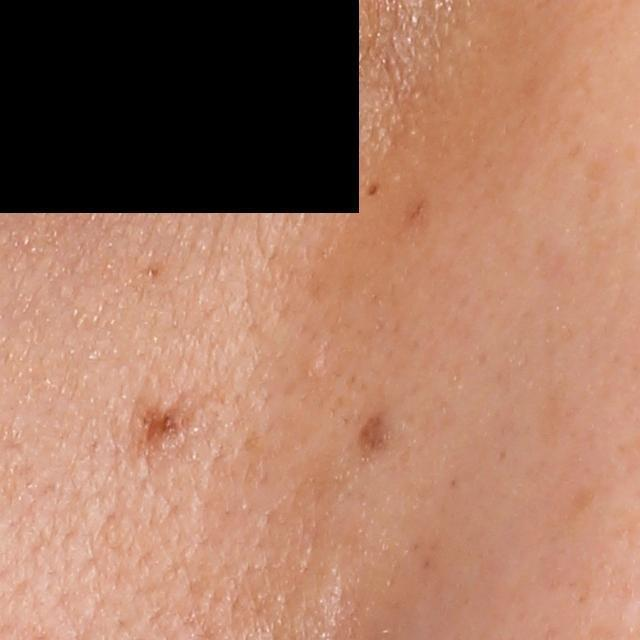nevus: (139, 405, 195, 454), (358, 407, 391, 455)
